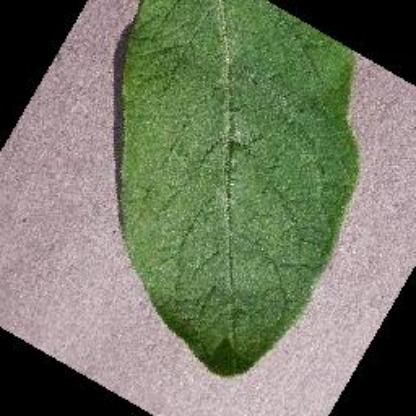Healthy-plant: (10, 0, 414, 386)
